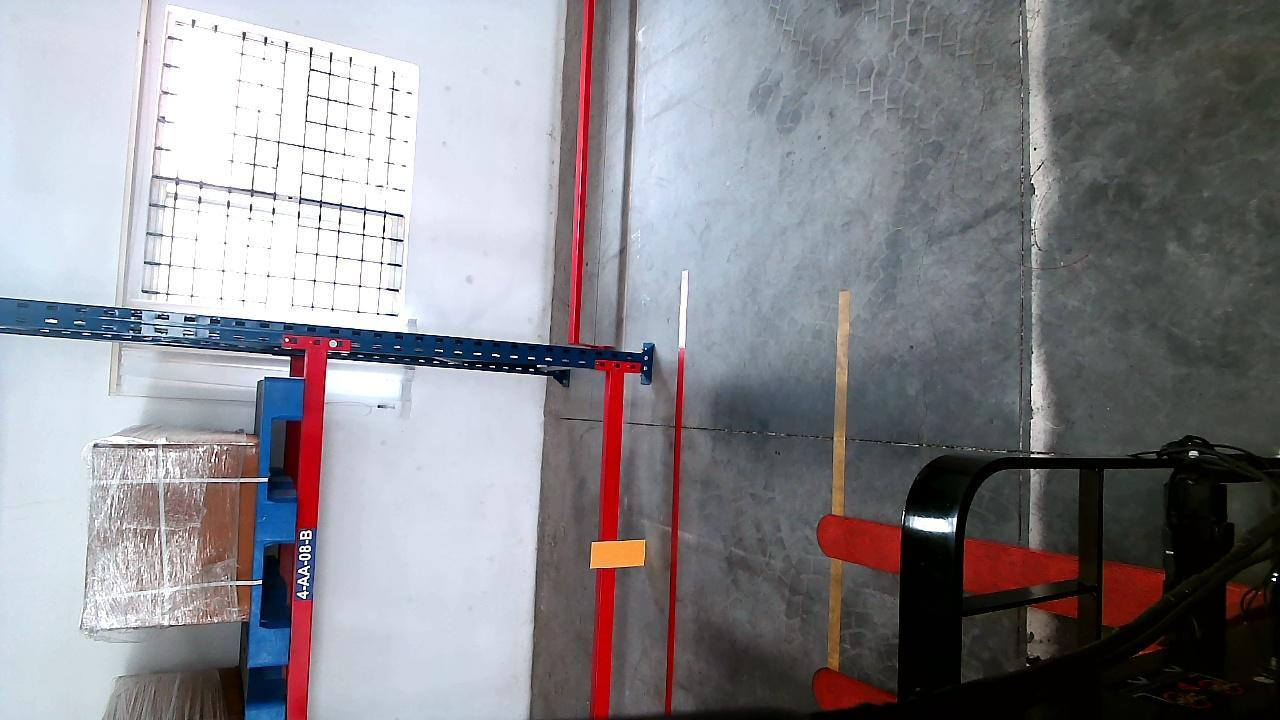red_line: (664, 270, 690, 712)
yellow_line: (823, 289, 851, 695)
